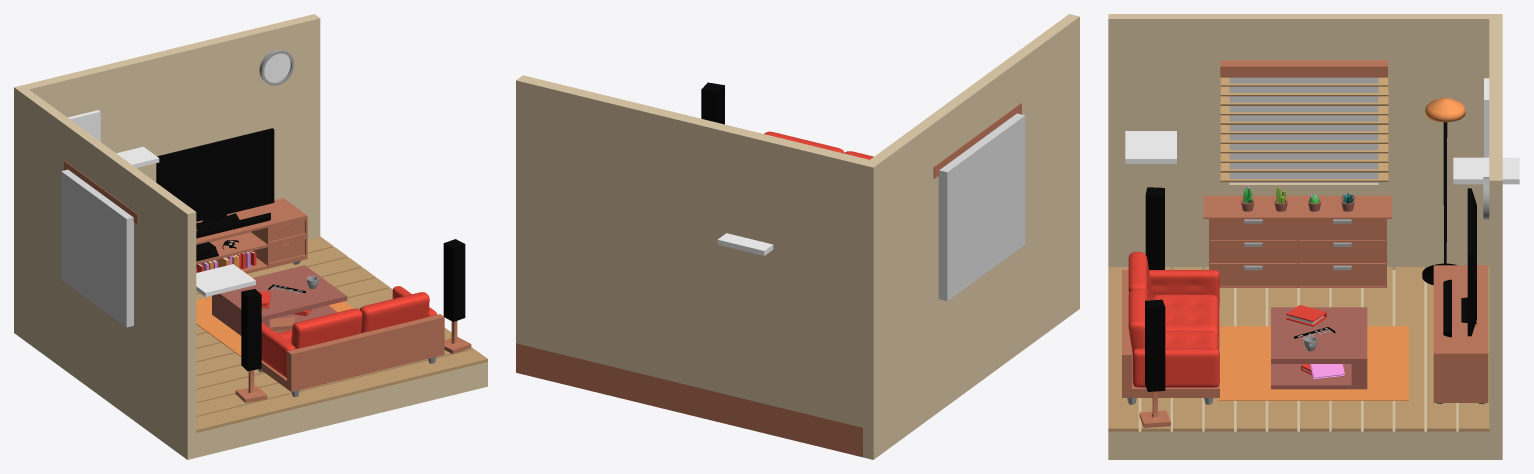
The picture shows the model from 3 angles, left to right: view 1: azimuth 30°, elevation 25°; view 2: azimuth 150°, elevation 25°; view 3: azimuth 270°, elevation 25°; orthographic projection. The views are drawn at different scales.
Parts seen in each view (by area): view 1: Room, Sofa, TV, Window cutout, TV Cabinet, Coffee table, Surround 2, Surround, Carpet, Painting, Clock, Painting Red (+3 smaller); view 2: Room, Window cutout, Surround 2, Blinds, Painting 3; view 3: Room, Cabinet, Window cutout, Blinds, Sofa, Carpet, Coffee table, TV Cabinet, Painting Red, Surround 2, TV, Painting (+5 smaller).
Boxes of the visible parts, x1=… form: Room: x1=14, y1=14, x2=487, y2=459; Sofa: x1=258, y1=286, x2=444, y2=396; TV: x1=156, y1=128, x2=274, y2=238; Window cutout: x1=61, y1=169, x2=133, y2=327; TV Cabinet: x1=196, y1=198, x2=307, y2=273; Coffee table: x1=212, y1=265, x2=347, y2=335; Surround 2: x1=443, y1=239, x2=471, y2=353; Surround: x1=235, y1=289, x2=267, y2=403; Carpet: x1=196, y1=296, x2=353, y2=356; Painting: x1=196, y1=264, x2=255, y2=297; Clock: x1=259, y1=49, x2=294, y2=85; Painting Red: x1=67, y1=110, x2=100, y2=141; Room: x1=516, y1=14, x2=1079, y2=459; Window cutout: x1=938, y1=113, x2=1025, y2=301; Surround 2: x1=701, y1=82, x2=724, y2=124; Blinds: x1=933, y1=103, x2=1021, y2=178; Painting 3: x1=717, y1=233, x2=773, y2=255; Room: x1=1108, y1=14, x2=1502, y2=459; Cabinet: x1=1203, y1=195, x2=1392, y2=287; Window cutout: x1=1229, y1=77, x2=1378, y2=182; Blinds: x1=1220, y1=60, x2=1388, y2=181; Sofa: x1=1122, y1=251, x2=1219, y2=404; Carpet: x1=1218, y1=326, x2=1408, y2=400; Coffee table: x1=1271, y1=307, x2=1367, y2=389; TV Cabinet: x1=1433, y1=265, x2=1488, y2=403; Painting Red: x1=1143, y1=76, x2=1489, y2=157; Surround 2: x1=1139, y1=299, x2=1170, y2=427; TV: x1=1443, y1=188, x2=1476, y2=337; Painting: x1=1125, y1=131, x2=1176, y2=163.
Size of what is drawn, in the model's own units: 5.11 by 3.89 by 5.2.
